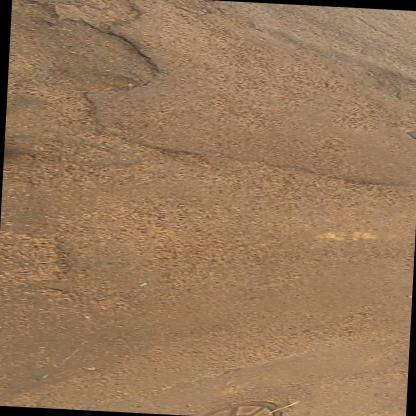manholes: (183, 390, 300, 416)
